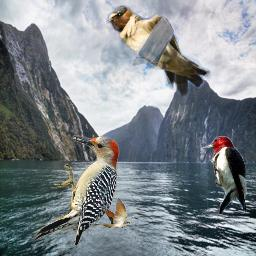Cuckoo: (88, 198, 132, 228)
Swallow: (106, 5, 211, 97)
Woodpecker: (29, 131, 131, 245), (201, 136, 248, 214)
